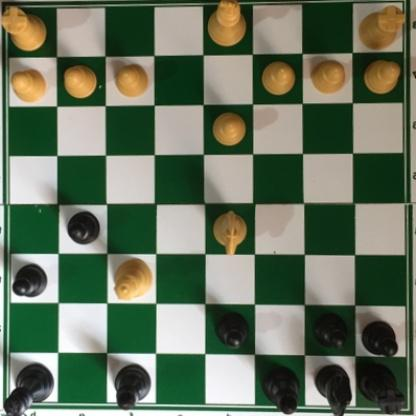black-bishop: (260, 367, 302, 415), (113, 363, 153, 412)
black-king: (3, 362, 54, 415)
black-knight: (314, 363, 351, 415)
black-pawn: (360, 320, 399, 360), (213, 311, 249, 351), (312, 310, 348, 350), (10, 263, 49, 298), (63, 211, 100, 247)
black-rook: (355, 361, 405, 415)
white-king: (202, 0, 245, 47)
white-knight: (211, 208, 248, 258)
white-pawn: (358, 54, 401, 97), (7, 69, 48, 108), (308, 57, 348, 96), (60, 63, 99, 100), (258, 60, 297, 97), (210, 110, 247, 147), (114, 63, 149, 99)
white-queen: (112, 262, 154, 305)
white-rook: (354, 5, 406, 54), (1, 3, 49, 56)
